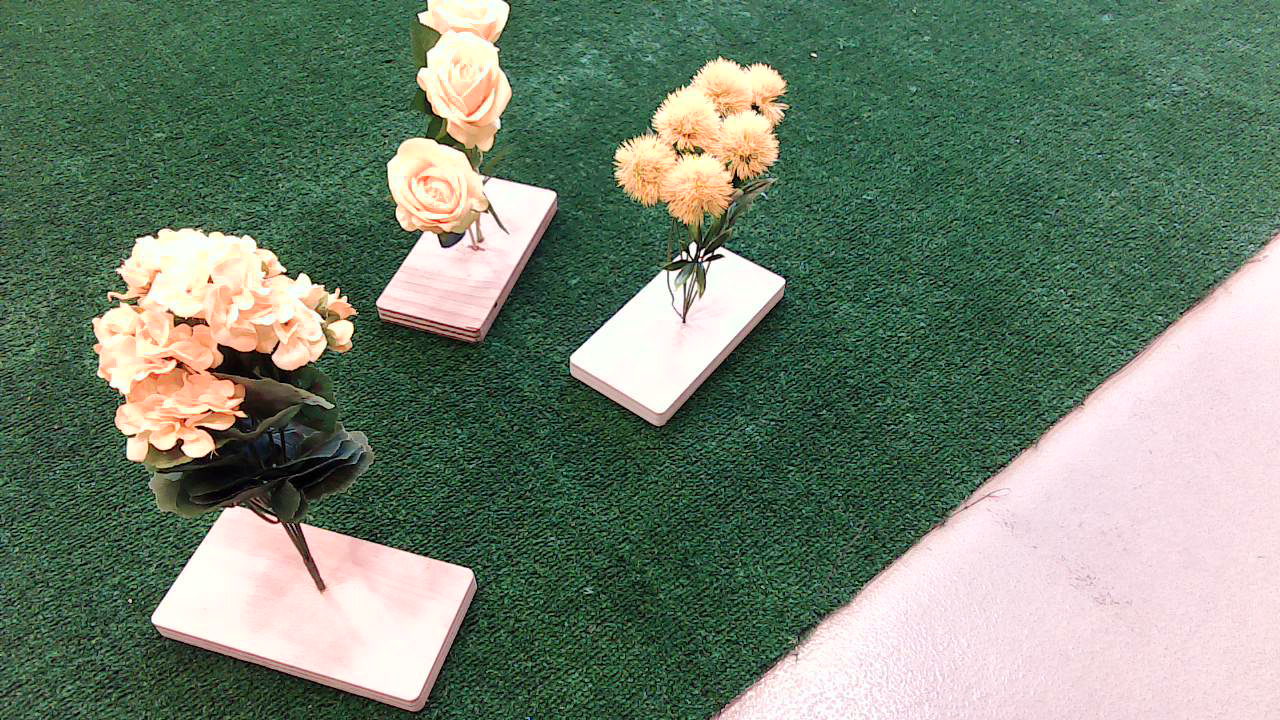dandelion: (598, 57, 817, 324)
geranium: (80, 229, 395, 540)
rose: (369, 3, 548, 253)
